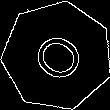O_SE: (24, 23, 90, 88)
